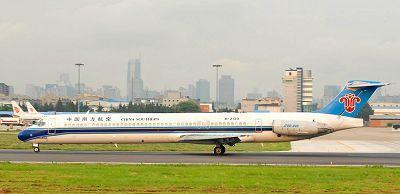airplane: (12, 76, 390, 156)
